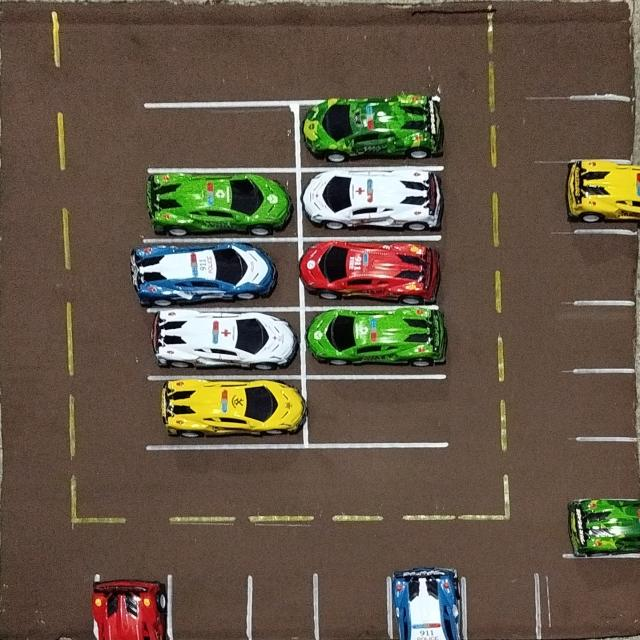libre: (304, 378, 454, 445), (144, 106, 298, 169), (0, 575, 93, 639), (168, 577, 250, 640), (461, 574, 537, 640), (317, 578, 390, 640), (578, 231, 640, 302), (250, 576, 317, 640), (577, 96, 640, 162), (578, 371, 640, 438), (579, 304, 640, 369), (578, 438, 640, 498)
ocupado: (141, 238, 303, 310), (140, 168, 299, 240), (145, 306, 303, 378), (146, 376, 307, 445), (298, 168, 446, 240), (300, 305, 446, 375), (299, 236, 444, 303), (299, 101, 443, 167), (388, 566, 469, 640), (562, 163, 640, 235), (94, 577, 170, 640), (570, 500, 640, 558)
